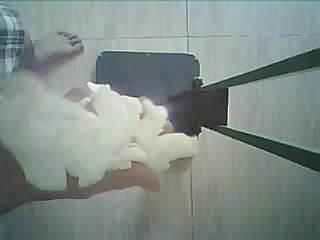paper: (0, 71, 197, 191)
